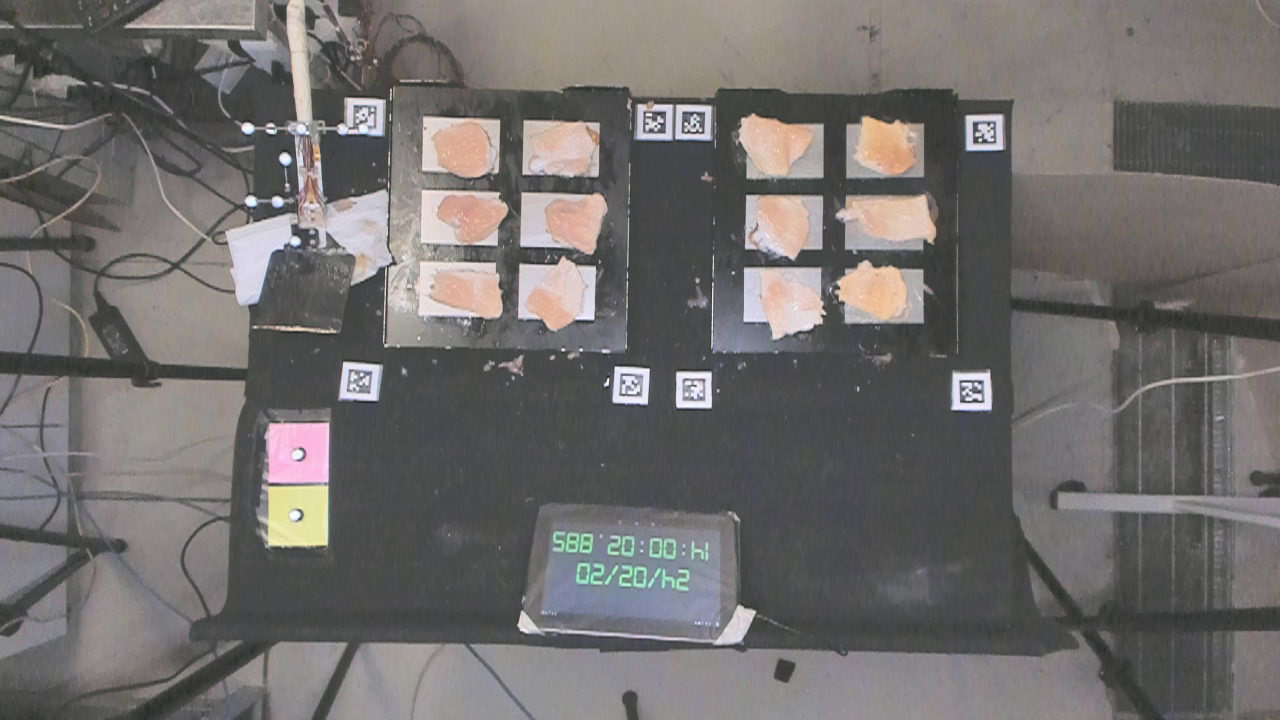chicken: (836, 184, 940, 249), (731, 109, 816, 179), (832, 262, 919, 325), (755, 267, 825, 342), (525, 259, 594, 332), (748, 191, 820, 260), (425, 262, 507, 321), (520, 123, 603, 179), (537, 194, 610, 256), (429, 115, 498, 179), (855, 110, 918, 180), (431, 191, 506, 244)
marker: (264, 423, 334, 485)
